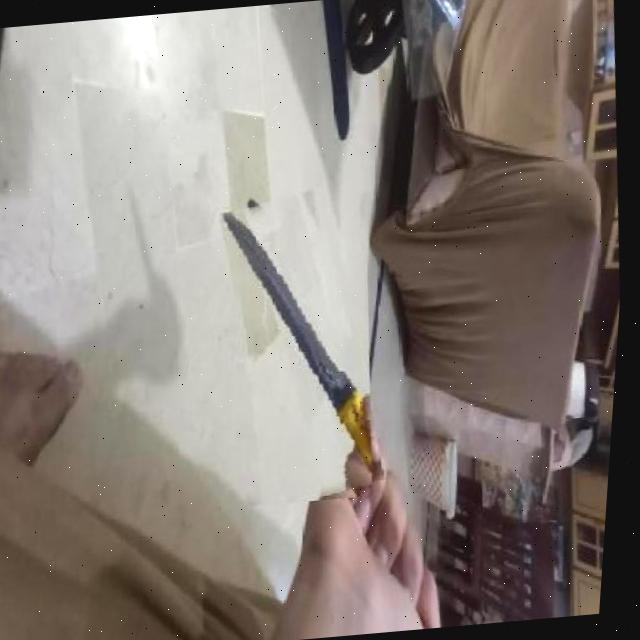knife: (218, 185, 395, 505)
